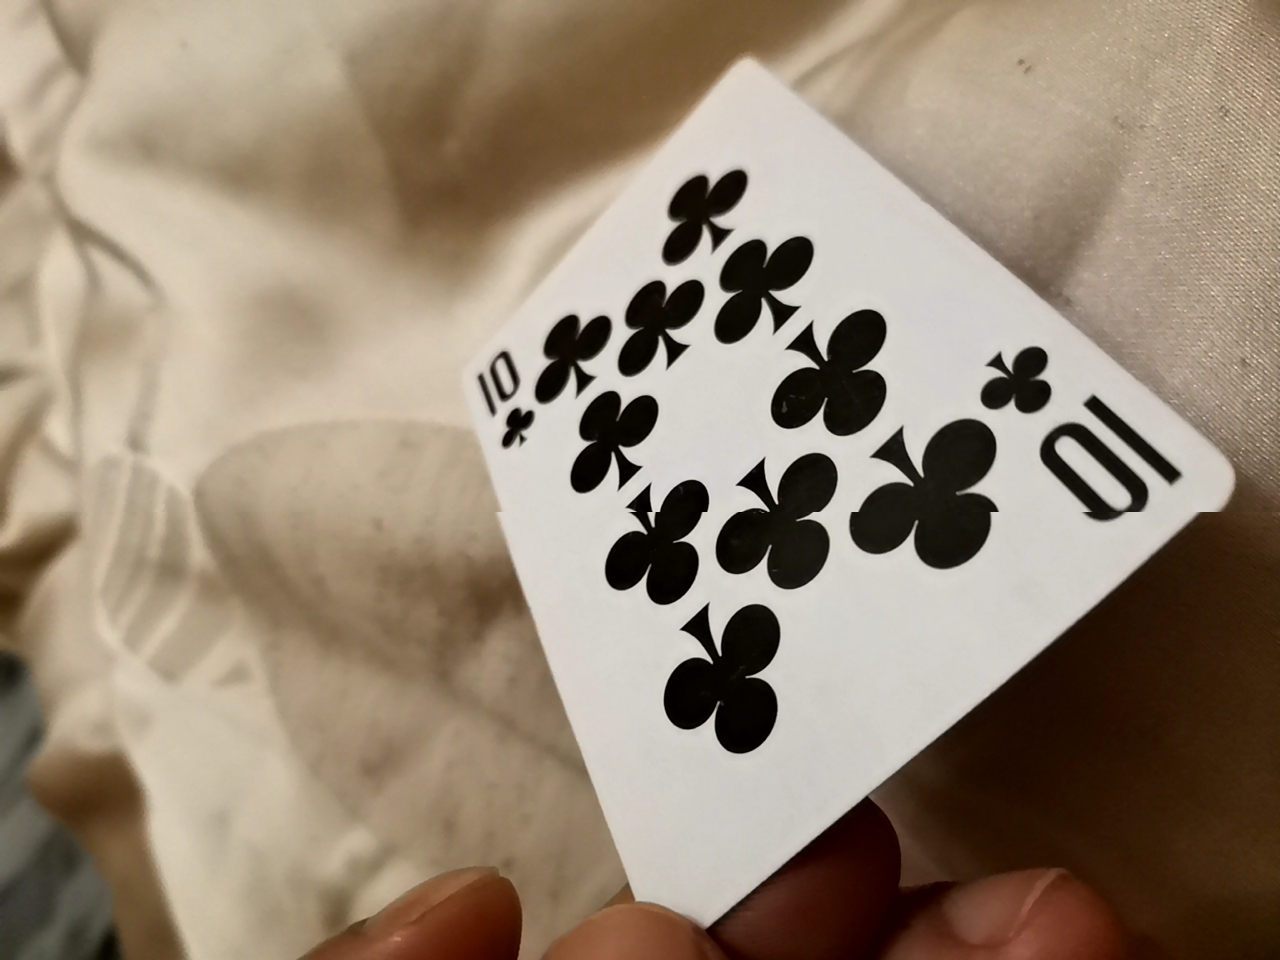mh 10: (412, 59, 1224, 933)
